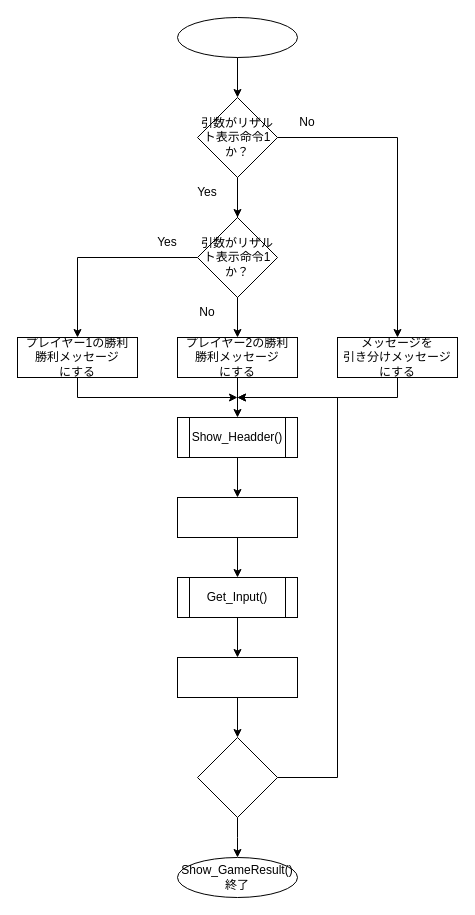
This 475x915 diagram has some shape labels left out. The centre of each missing label's shape, as x and y in pixels:
"Get_Input()の 返り値がEnter？" goes at point 237,777.
"Show_GameResult() 開始" goes at point 237,37.
"ターミナルの 出力を消す" goes at point 237,677.
"終了盤面と メッセージを表示" goes at point 237,517.
